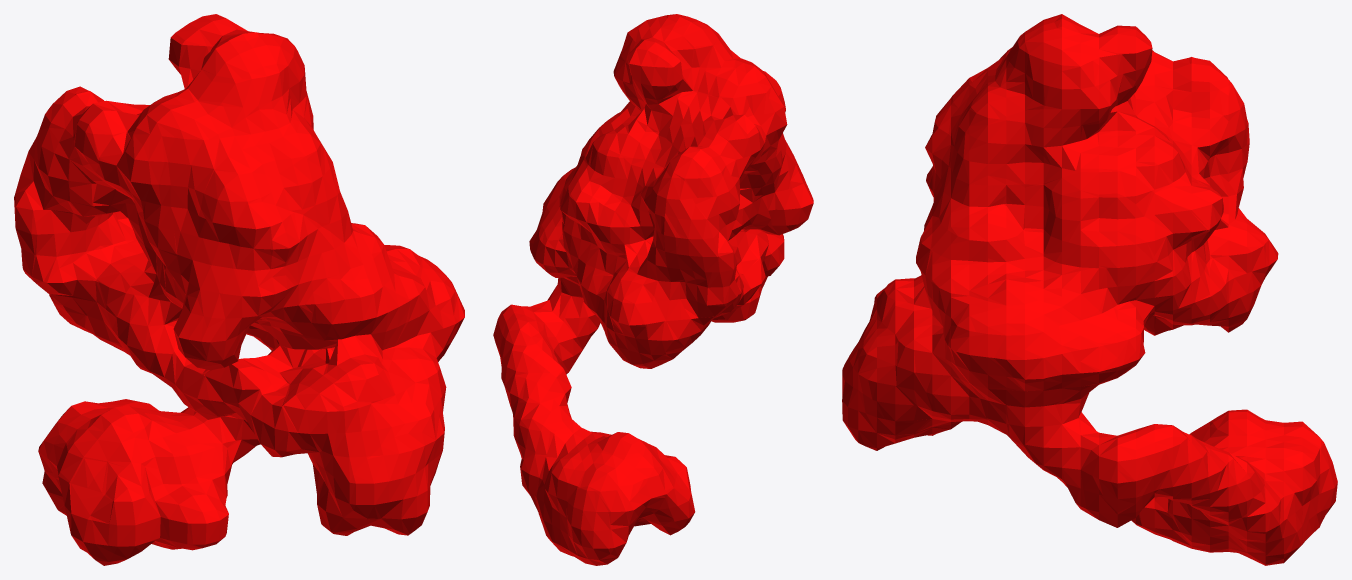
File: alaS_coarse.dae
3 views of the same model, side by side, from view 1: azimuth 30°, elevation 25°; view 2: azimuth 150°, elevation 25°; view 3: azimuth 270°, elevation 25° (orthographic). The views are drawn at different scales.
Parts seen in each view (by area): view 1: alaS; view 2: alaS; view 3: alaS.
Boxes of the visible parts, x1=… form: alaS: x1=14, y1=14, x2=464, y2=565; alaS: x1=493, y1=14, x2=813, y2=565; alaS: x1=842, y1=14, x2=1337, y2=565.
Bounding box in the file's own units: 74.5 × 121 × 102.
